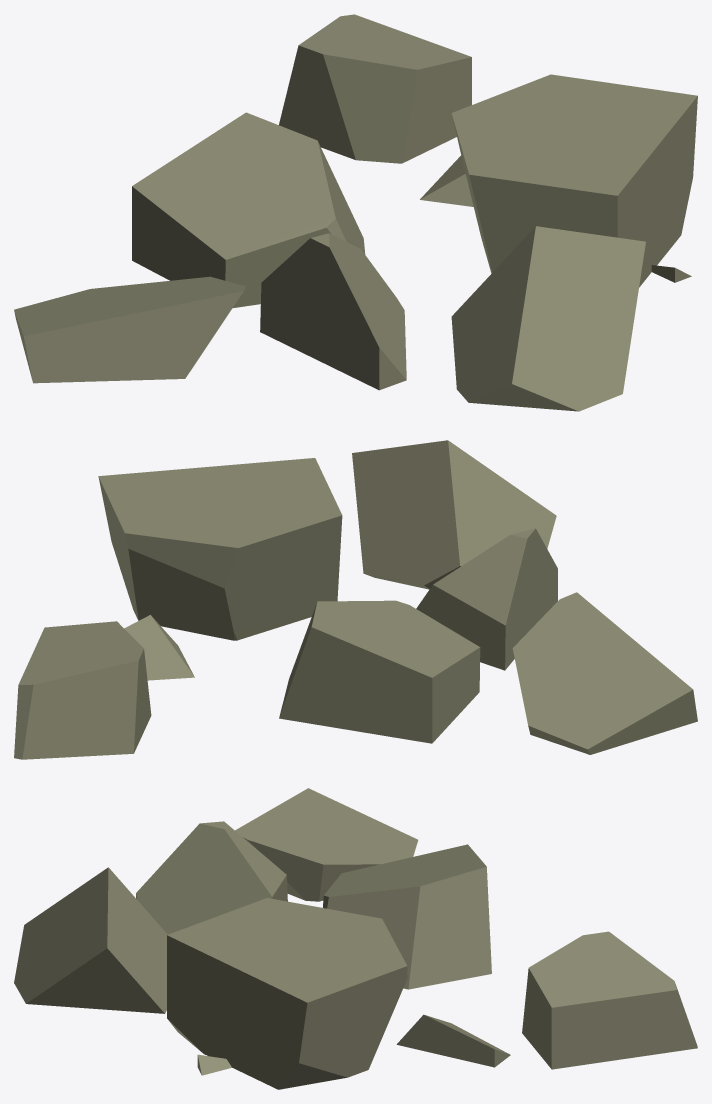
File: rocks_1.fbx
3 views of the same model, one above another, from view 1: azimuth 30°, elevation 25°; view 2: azimuth 150°, elevation 25°; view 3: azimuth 270°, elevation 25° (orthographic). The views are drawn at different scales.
Visible parts, largest first — view 1: Cube_cell.002; view 2: Cube_cell.002; view 3: Cube_cell.002.
Boxes of the visible parts, left/top/right/bottom form: Cube_cell.002: left=14, top=14, right=697, bottom=411; Cube_cell.002: left=14, top=440, right=697, bottom=759; Cube_cell.002: left=14, top=788, right=697, bottom=1089.
Size of what is drawn, in the model's own units: 488 by 98.23 by 504.
